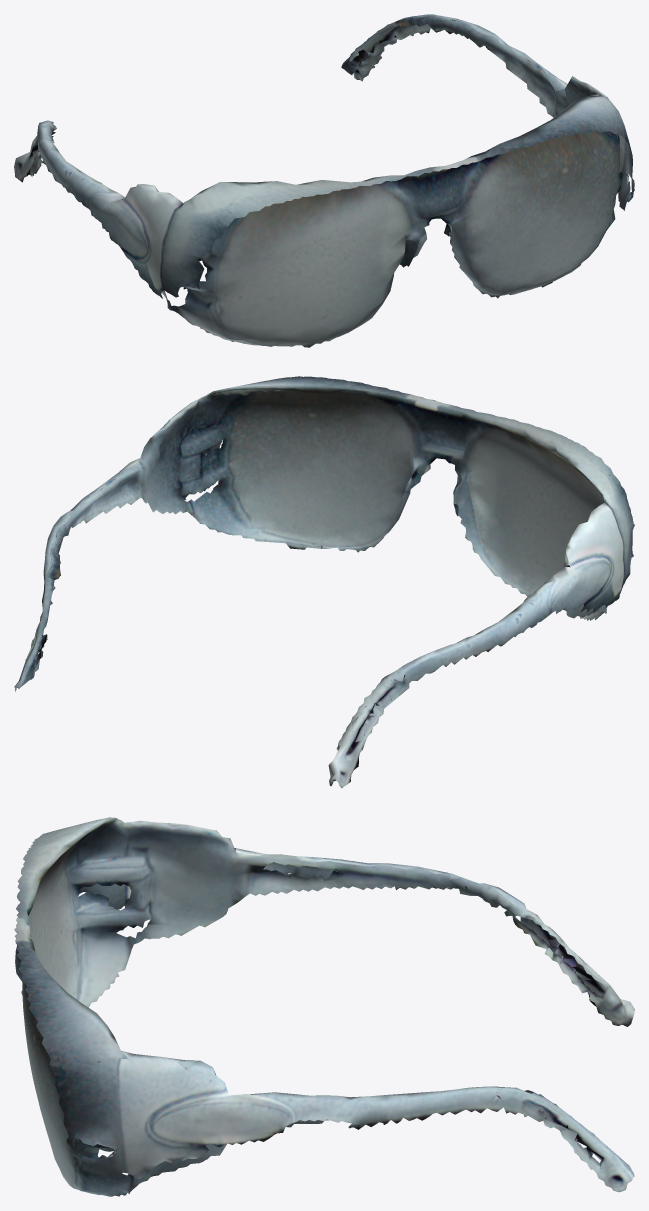
File: scan_align.obj
3 renders of one model, top to bottom at view 1: azimuth 30°, elevation 25°; view 2: azimuth 150°, elevation 25°; view 3: azimuth 270°, elevation 25°, orthographic. The views are drawn at different scales.
Bounding box in the file's own units: 0.1515 × 0.0523 × 0.1521.
1 material, 1 textured.
